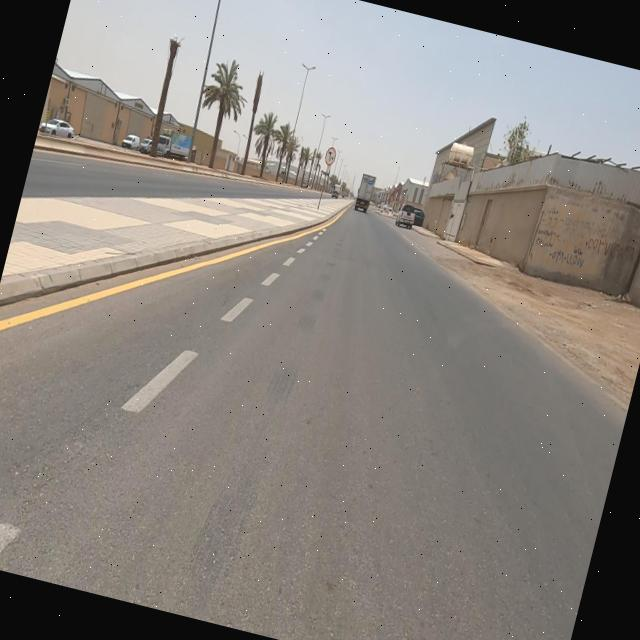Graffiti: (532, 203, 640, 282)
